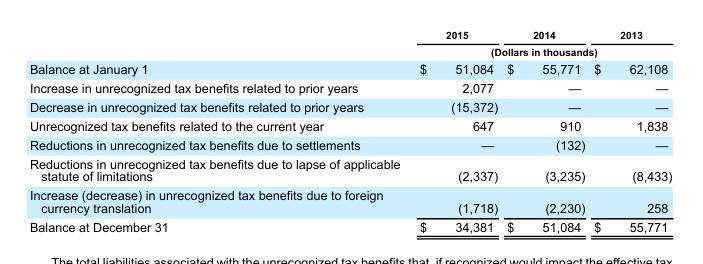table: (28, 28, 671, 233)
table column: (28, 28, 409, 233), (409, 28, 501, 233), (501, 28, 588, 233), (588, 28, 671, 233)
table column header: (28, 28, 671, 59)
table row: (28, 153, 671, 185), (28, 185, 671, 216), (28, 59, 671, 78), (28, 78, 671, 97), (28, 115, 671, 134), (28, 134, 671, 153), (28, 97, 671, 115), (28, 42, 671, 59), (28, 216, 671, 233), (28, 28, 671, 42)
table spanning cell: (409, 42, 671, 59)
